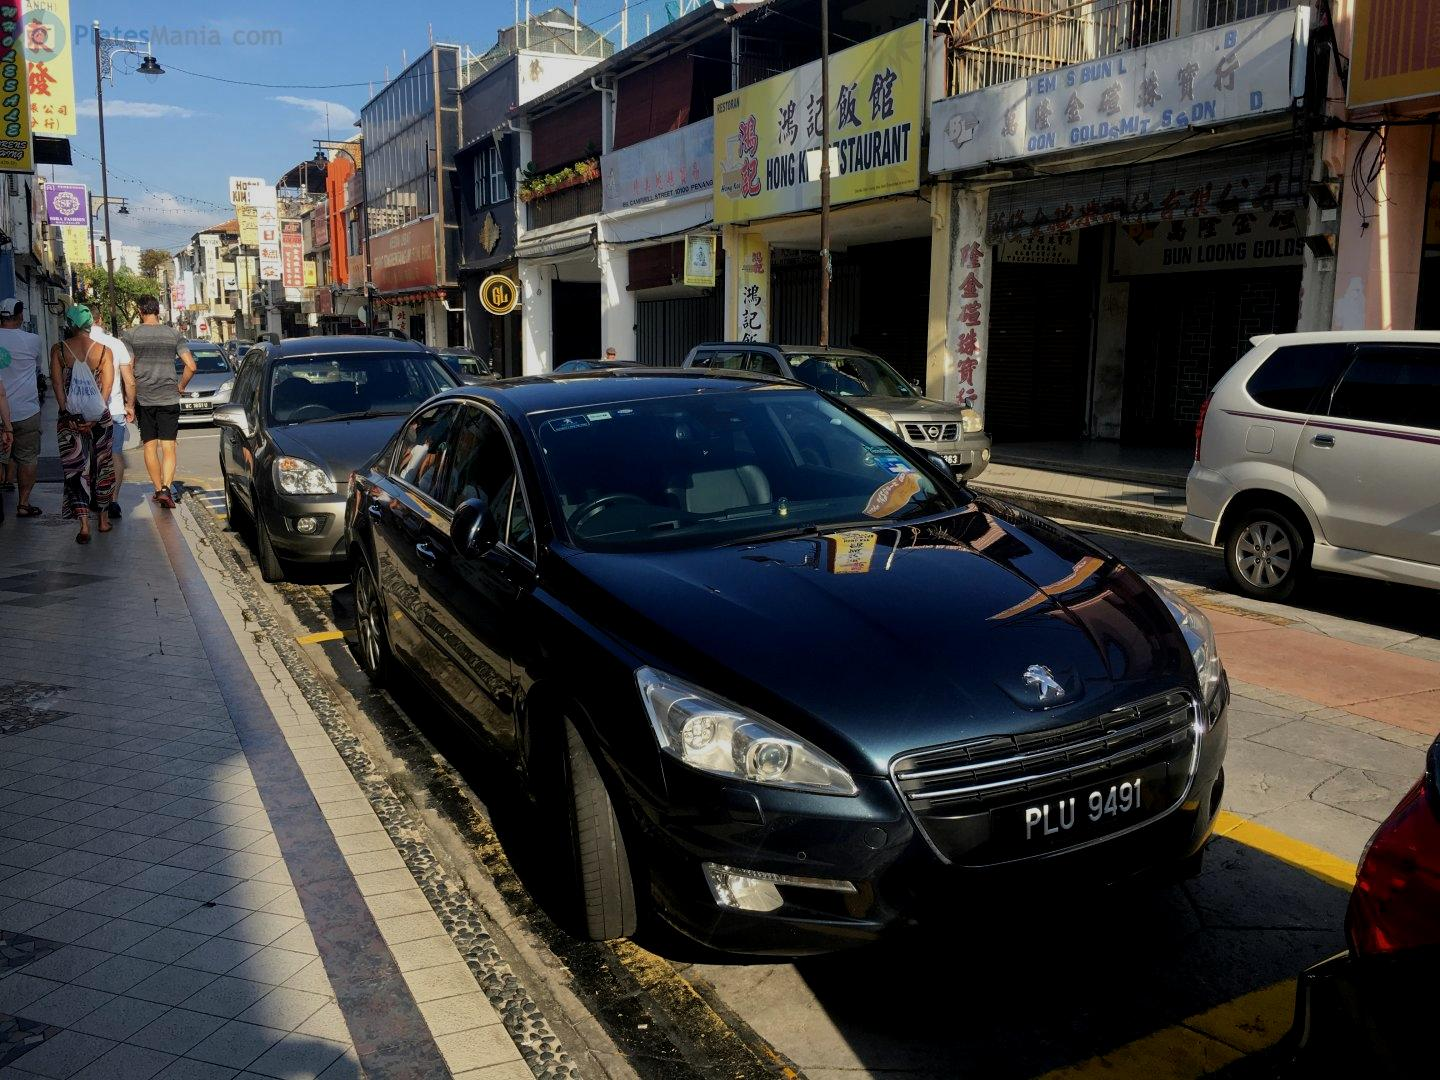License Plate: (1000, 763, 1172, 860)
